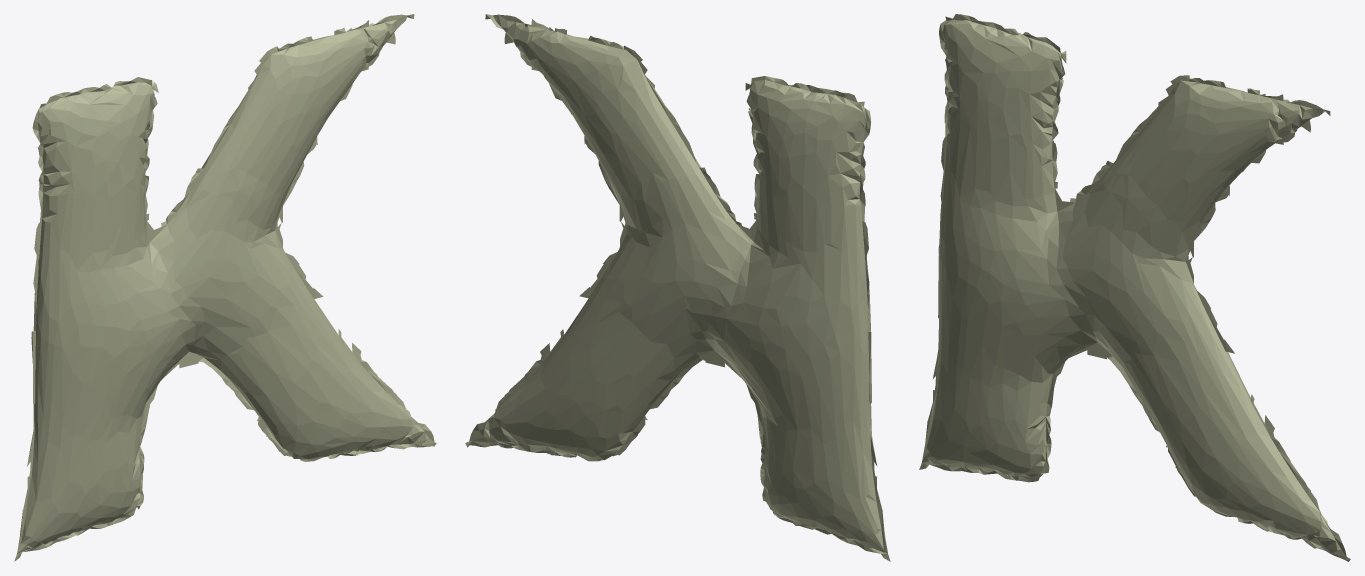
Rendered from tinker.obj.
The picture shows the model from 3 angles, left to right: view 1: azimuth 30°, elevation 25°; view 2: azimuth 150°, elevation 25°; view 3: azimuth 330°, elevation 25°; orthographic projection.
Parts seen in each view (by area): view 1: obj_0; view 2: obj_0; view 3: obj_0.
Boxes of the visible parts, x1,y1,x2,y2 form: obj_0: (14,14,436,561); obj_0: (465,14,890,561); obj_0: (919,14,1350,561).
Bounding box in the file's own units: 15.34 × 15.83 × 2.09.
